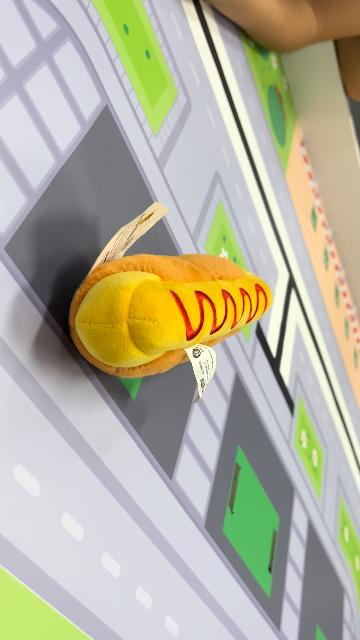hotdog: (68, 253, 274, 377)
